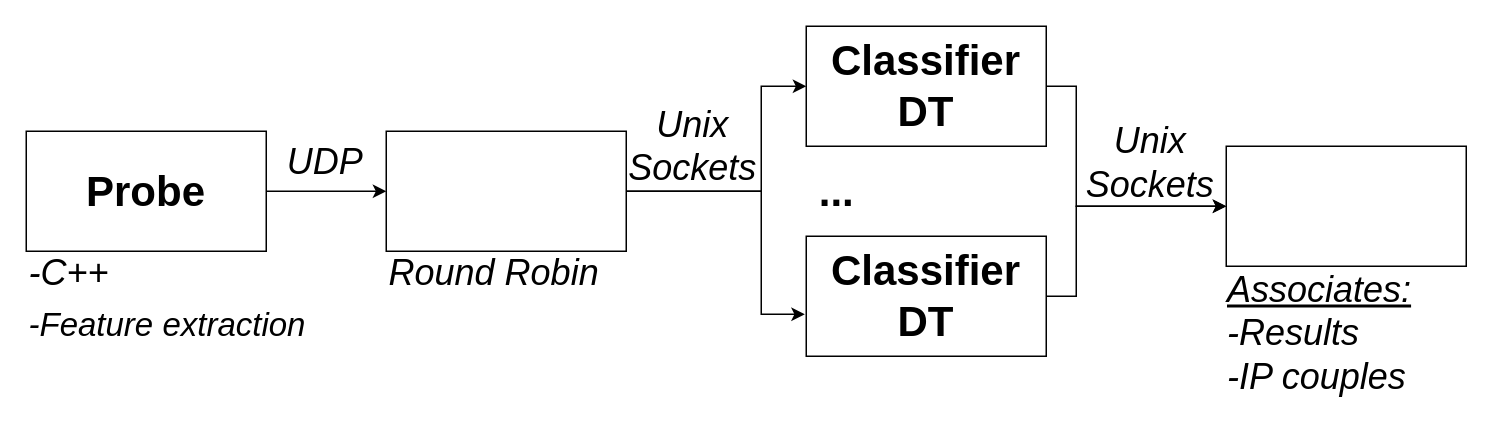
Image size: 1493x428. Some labels were removed from this diagram. Each missing label, with the box of its shape:
Aggregator: (1225, 145, 1466, 266)
Load Balancer: (385, 130, 626, 251)
